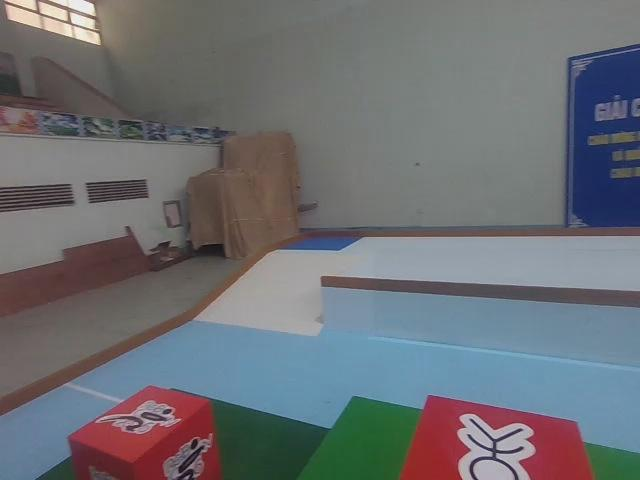R1: (67, 381, 225, 480)
R2 Real: (395, 390, 598, 480)
